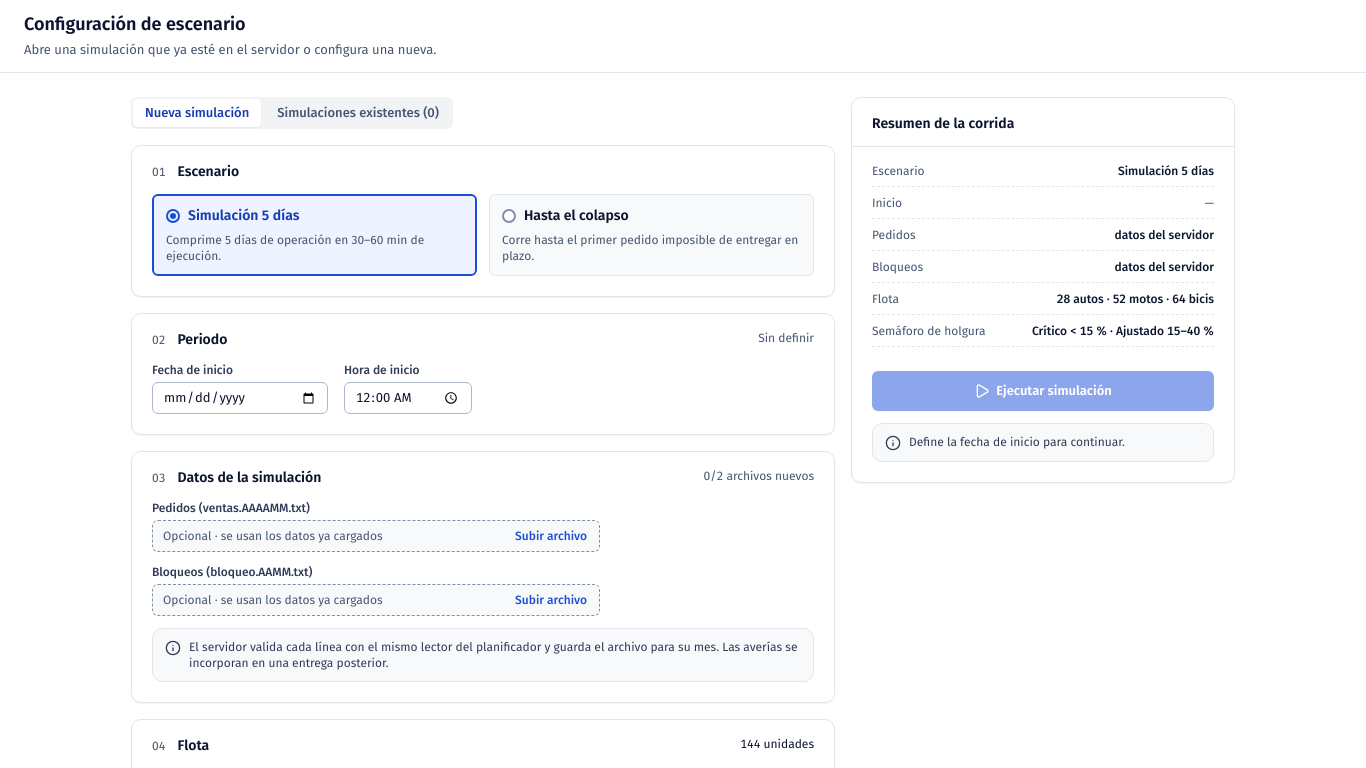
Rúbrica · inicio de la simulación semanal › C1 · pide la fecha de inicio y no deja ejecutar sin ella
Later steps or results of the test are not shown.
Check: the button "Ejecutar simulación" is disabled, box [872,371,1214,411]
Check: the text "Define la fecha de inicio para continuar." is shown, box [909,435,1125,449]
Type "2026-03-03" into the date field labelled "Fecha de inicio" at (240, 398), box [152,382,328,414]
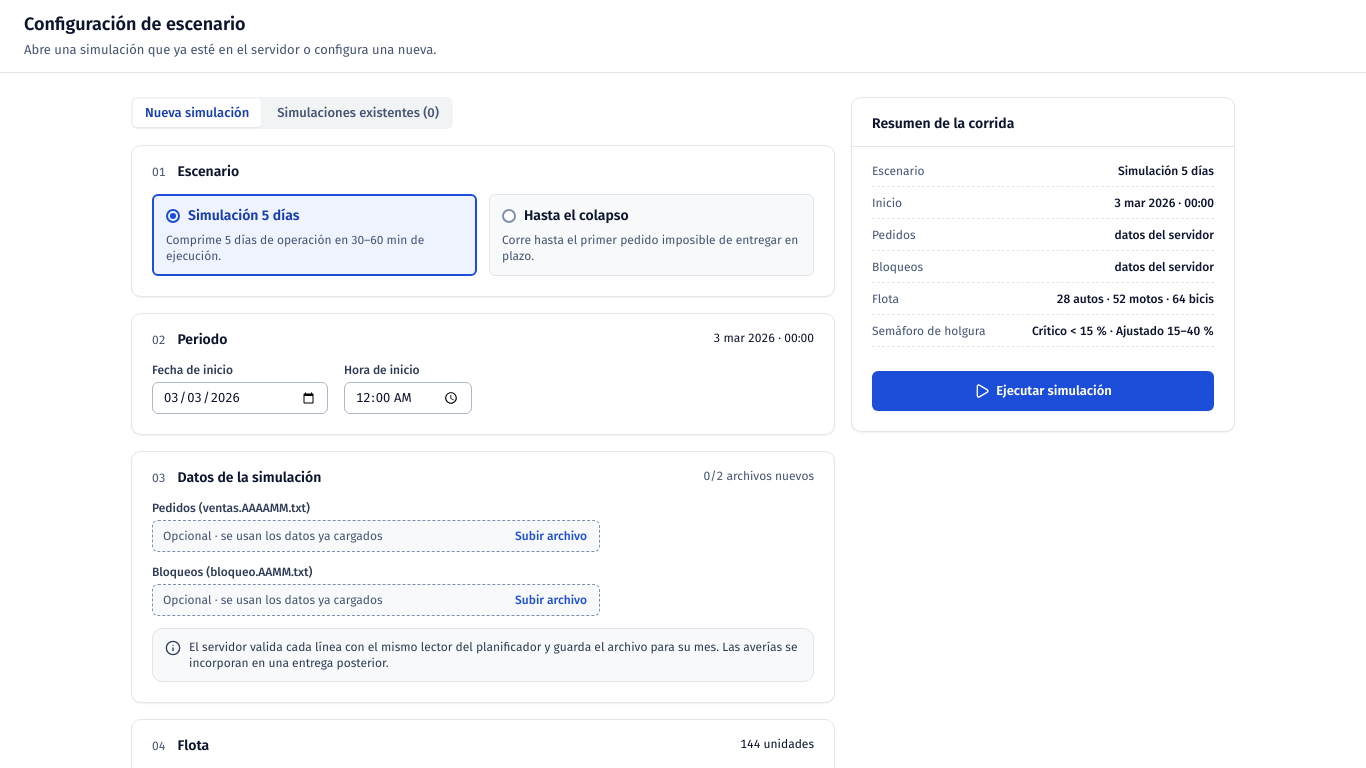
Check: the button "Ejecutar simulación" is enabled, box [872,371,1214,411]
